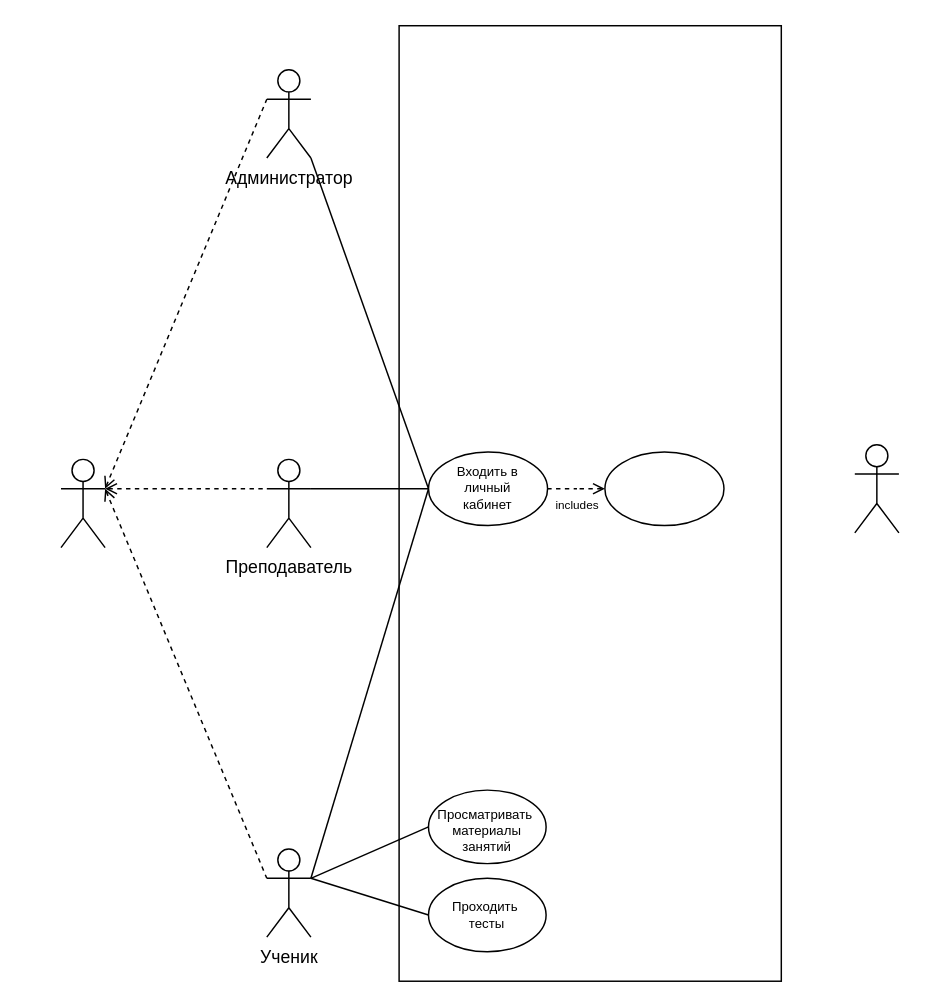
The diagram is 925 pixels wide and 1007 high, and some of its shapes have lost their labels. The shapes that lost their labels are listed below. From the top down, each one's centre as x and y in pixels, then its label:
the point at 82,503: Пользователь
the point at 663,488: Просматривать результаты тестов
the point at 876,488: БД
